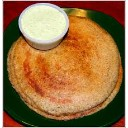dosa: (7, 23, 120, 117)
